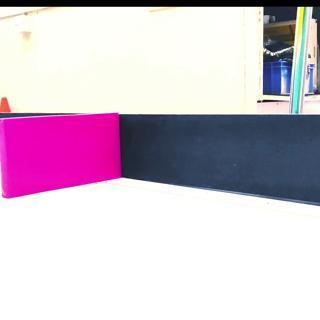xparking: (3, 120, 118, 190)
